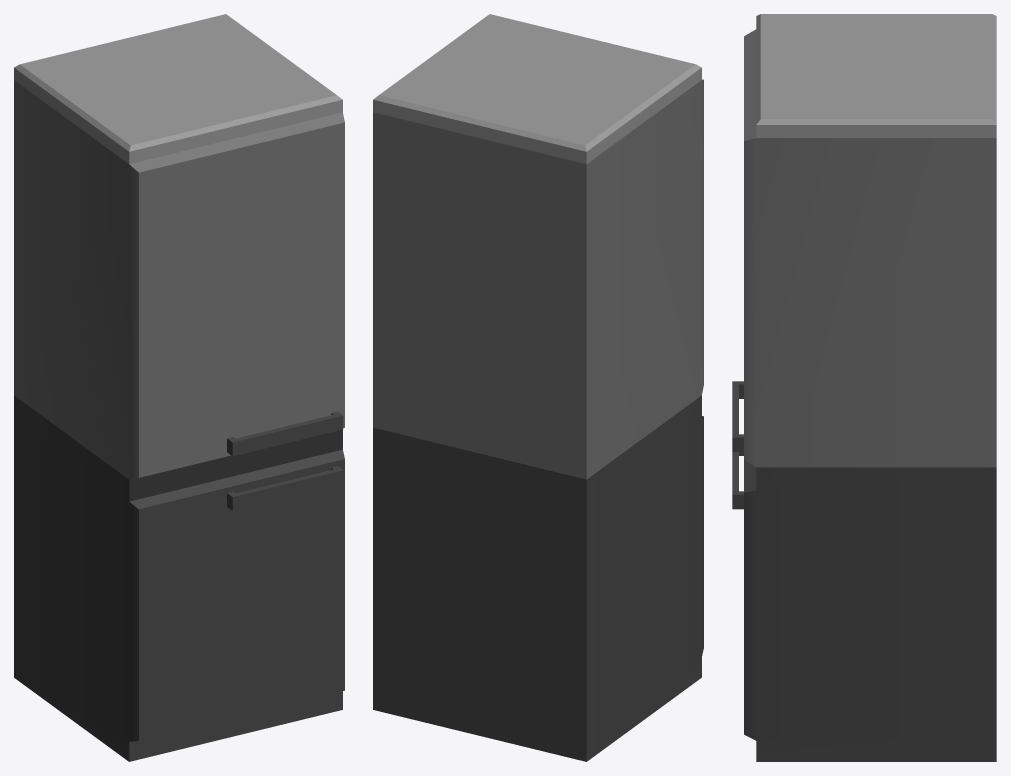
Rendered from fridge_kitchen011.glb.
3 views of the same model, side by side, from view 1: azimuth 30°, elevation 25°; view 2: azimuth 150°, elevation 25°; view 3: azimuth 270°, elevation 25° (orthographic). The views are drawn at different scales.
Parts seen in each view (by area): view 1: kitchen.011; view 2: kitchen.011; view 3: kitchen.011.
Boxes of the visible parts, box(x1,y1,x2,y2) form: kitchen.011: box(14, 14, 344, 761); kitchen.011: box(373, 14, 703, 761); kitchen.011: box(732, 14, 996, 761).
Bounding box in the file's own units: 0.7434 × 2.04 × 0.7638.
1 material, 1 textured.
